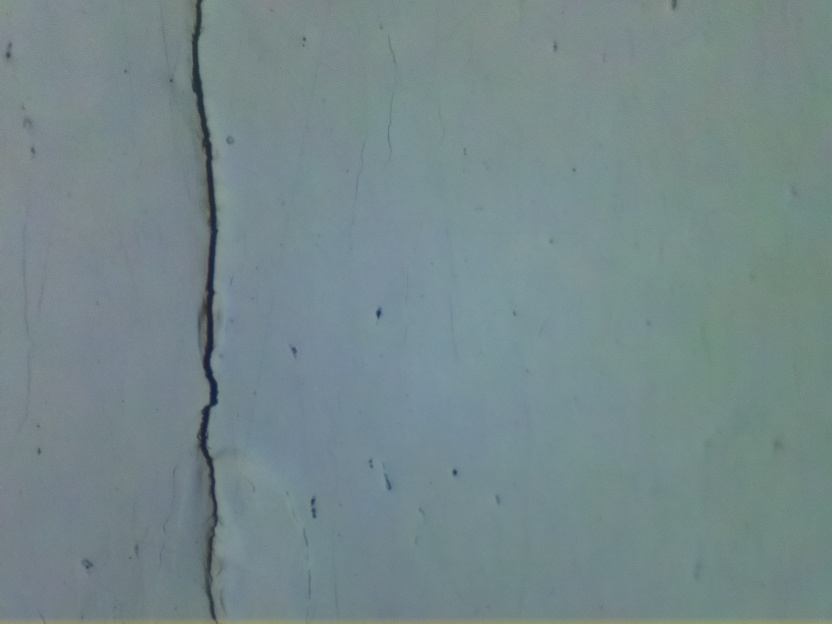crack: (189, 0, 222, 624)
